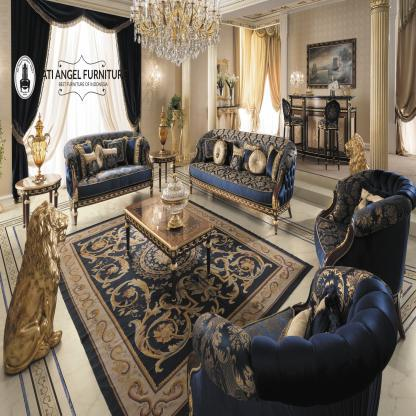meja: (117, 193, 225, 288)
sova: (189, 268, 398, 416), (312, 173, 416, 338), (189, 125, 299, 223), (62, 133, 156, 201)
